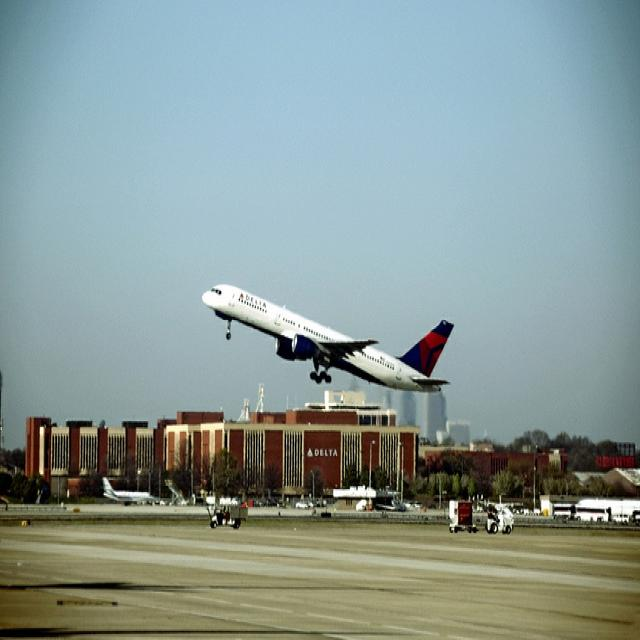Vehicle: (448, 497, 515, 535), (296, 502, 308, 509), (414, 500, 423, 509)
